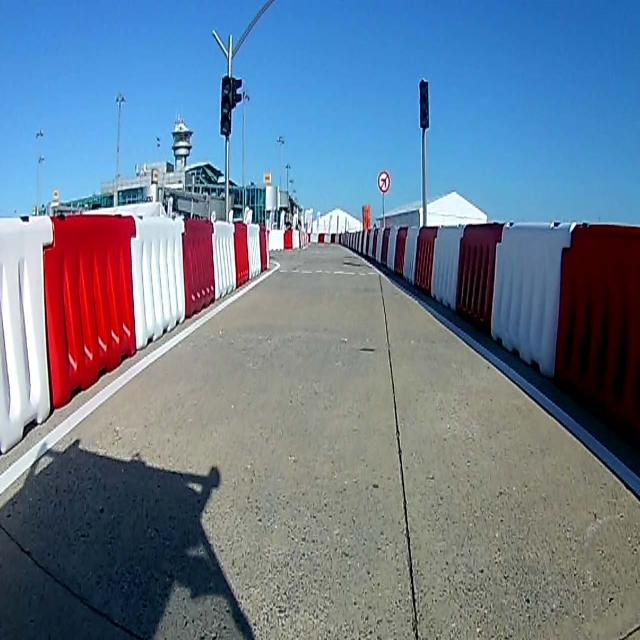soladonulmez: (378, 171, 390, 193)
